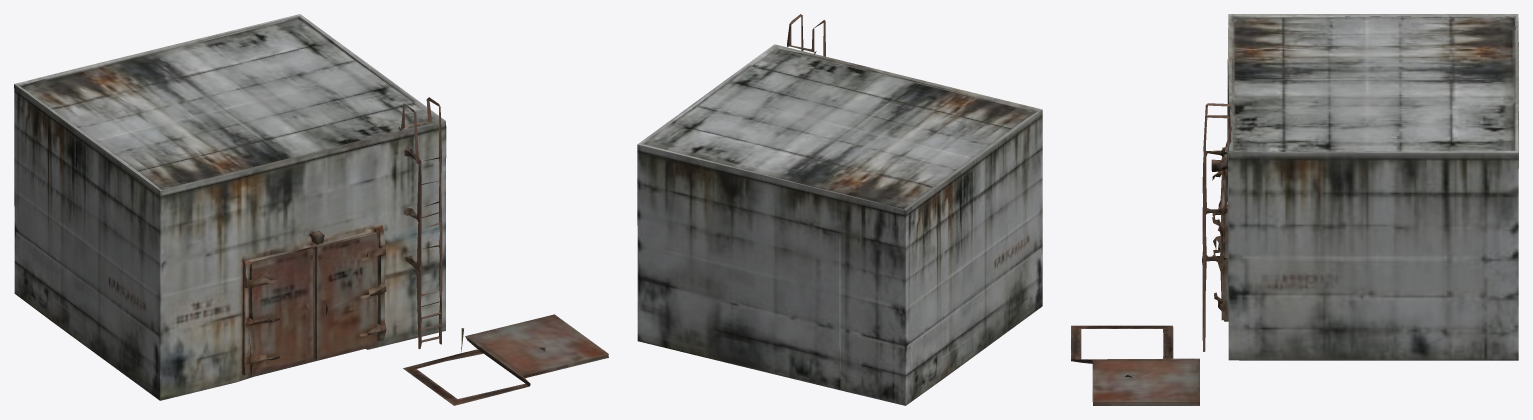
File: duga_hall.glb
3 views of the same model, side by side, from view 1: azimuth 30°, elevation 25°; view 2: azimuth 150°, elevation 25°; view 3: azimuth 270°, elevation 25° (orthographic). The views are drawn at different scales.
Parts seen in each view (by area): view 1: duga_hall; view 2: duga_hall; view 3: duga_hall.
Part boxes in pixels (box(x1,y1,x2,y2)): duga_hall: box(14, 14, 608, 405); duga_hall: box(637, 14, 1042, 405); duga_hall: box(1071, 14, 1518, 405).
Size of the model in its own units: 1.85 by 1.11 by 1.9.
Materials: 1 (1 with a texture image).
